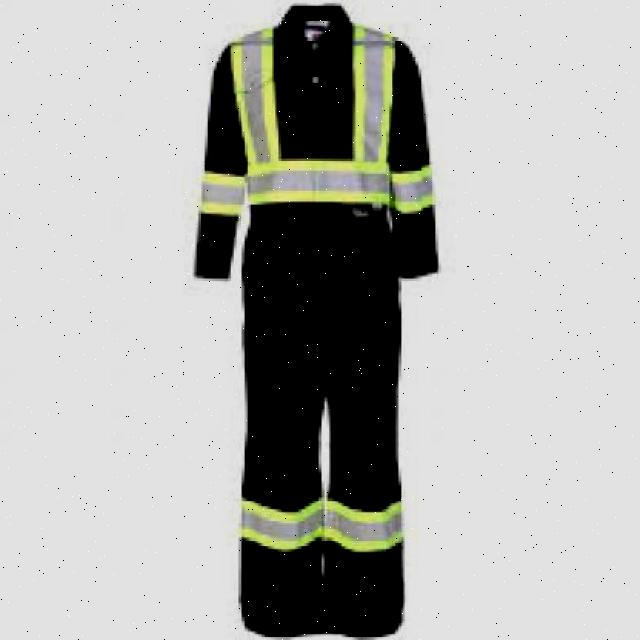Mask: (198, 16, 440, 578)
